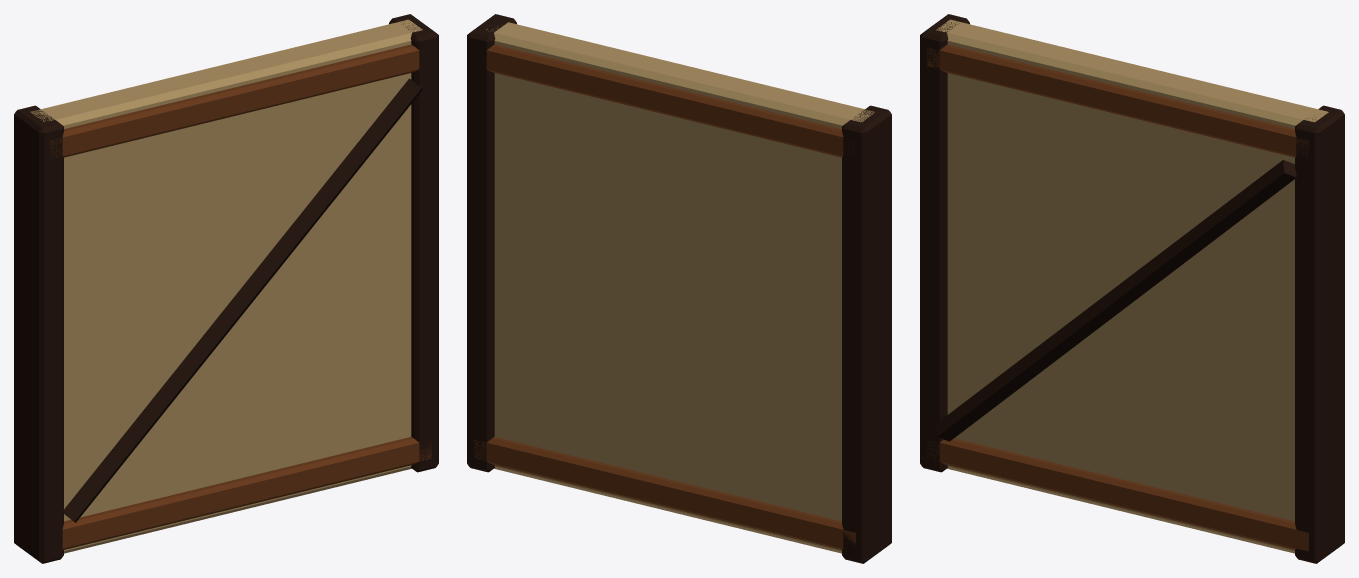
The model's file is Parede_enxaimel_LOD0.fbx.
3 views of the same model, side by side, from view 1: azimuth 30°, elevation 25°; view 2: azimuth 150°, elevation 25°; view 3: azimuth 330°, elevation 25° (orthographic).
Visible parts, largest first — view 1: Parede_enxaimel_LOD0; view 2: Parede_enxaimel_LOD0; view 3: Parede_enxaimel_LOD0.
Part boxes in pixels (left/top/right/bottom): Parede_enxaimel_LOD0: left=14, top=14, right=438, bottom=563; Parede_enxaimel_LOD0: left=467, top=14, right=891, bottom=563; Parede_enxaimel_LOD0: left=920, top=14, right=1344, bottom=563.
Bounding box in the file's own units: 288 × 300 × 45.
Materials: 1 (1 with a texture image).
